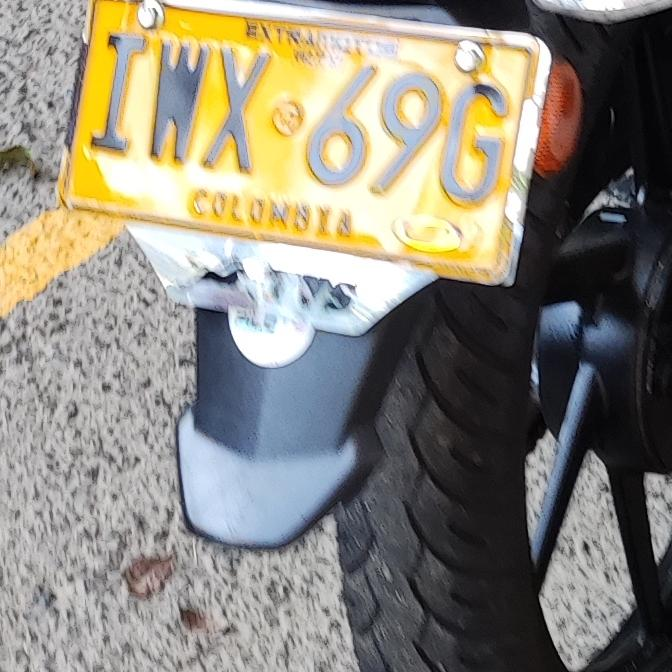plates: (52, 0, 549, 289)
